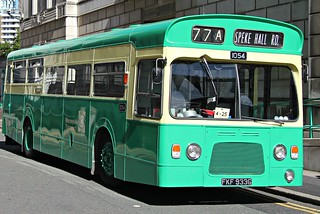bus: (1, 12, 304, 188)
